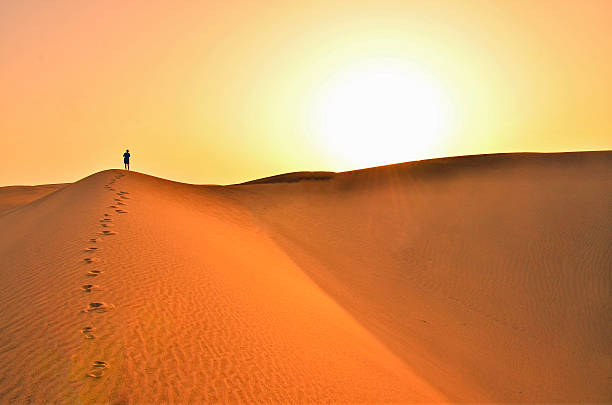human_footprint: (87, 361, 109, 377), (82, 302, 114, 312), (102, 230, 123, 244), (96, 212, 113, 227), (86, 266, 103, 280), (112, 202, 129, 216), (82, 276, 92, 298), (84, 255, 98, 265), (88, 243, 100, 254), (114, 189, 127, 198)
